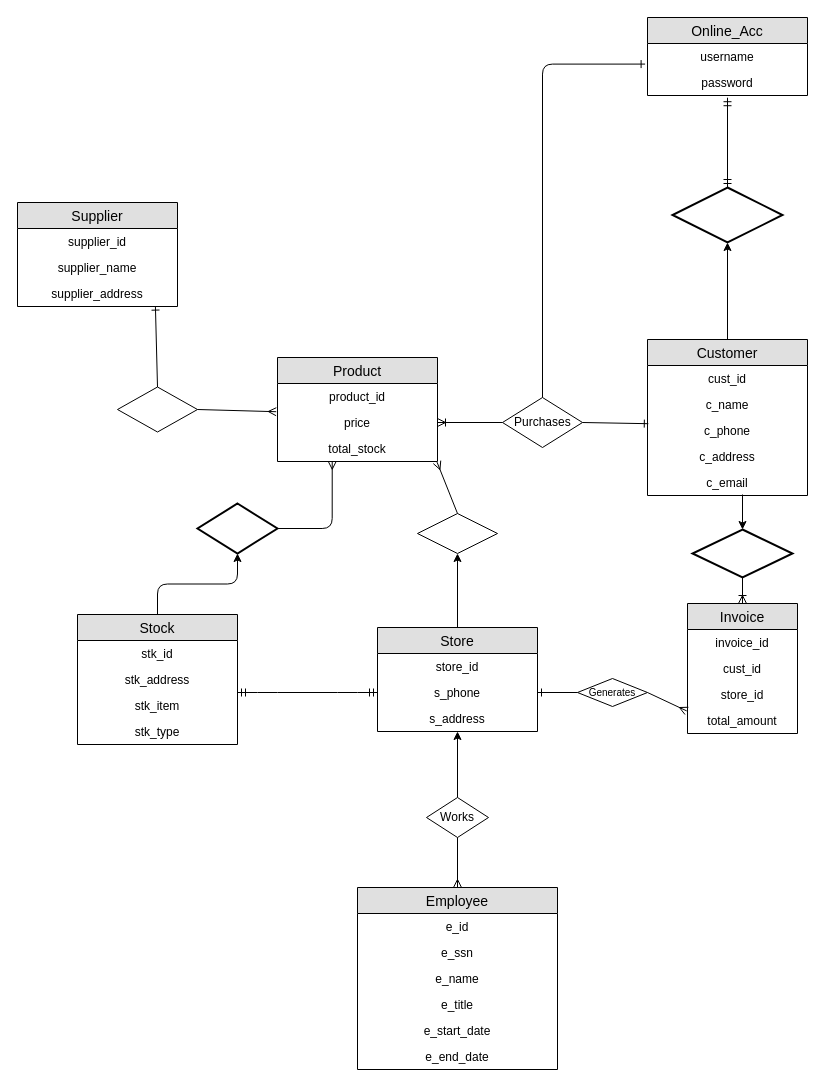
This 825x1090 diagram has some shape labels left out. Each missing label, with the centre of its shape:
Contains: the point at 457,533
Cust_Invoice: the point at 742,553
In_Stock: the point at 237,528
Online_Cust: the point at 727,214
Supplies: the point at 157,409
